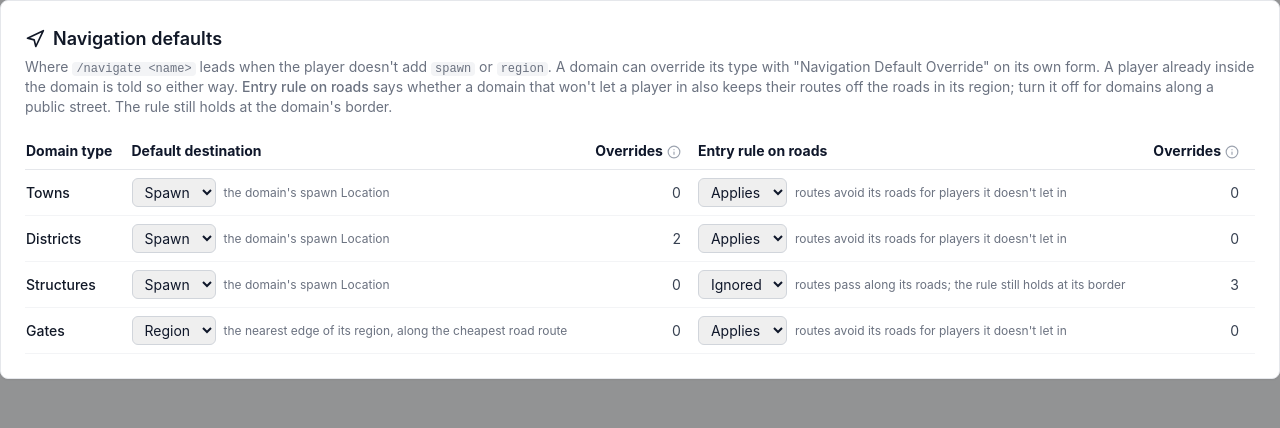
Test case: DomainNavigationDefaultsCard › shows the API message when a save is refused
Select "Region" in the dropdown named "Towns navigation default" at (174, 192), box left=132, top=178, right=216, bottom=207
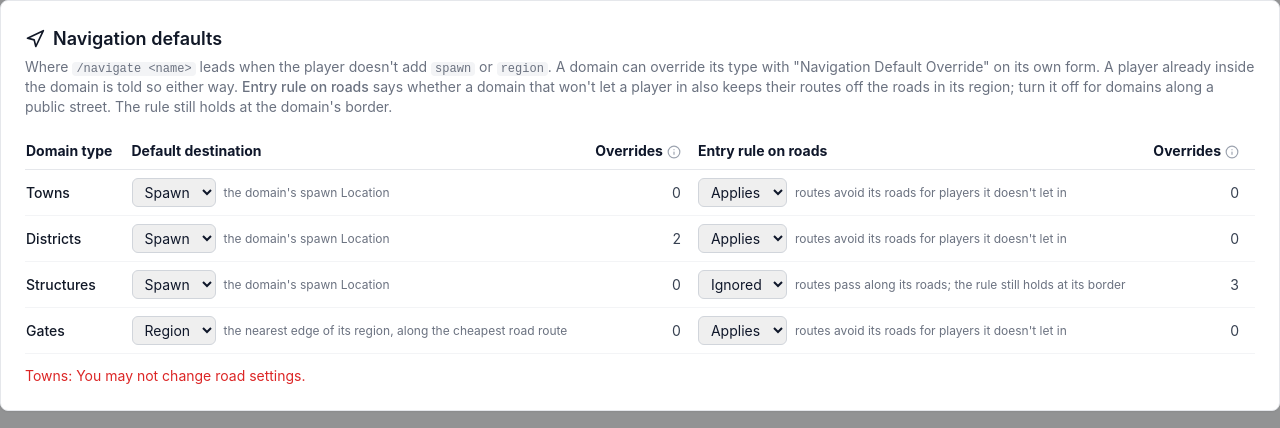
Result: the text "Towns: You may not change road settings." is shown at left=25, top=367, right=306, bottom=384
